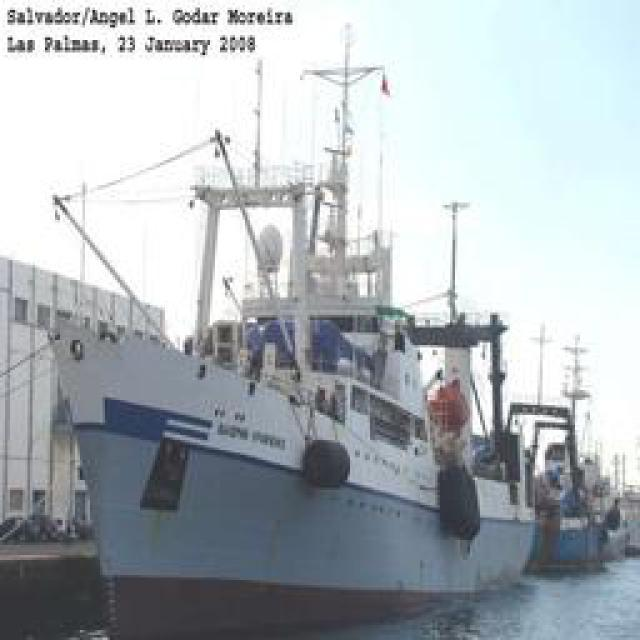Ship: (50, 45, 545, 610)
